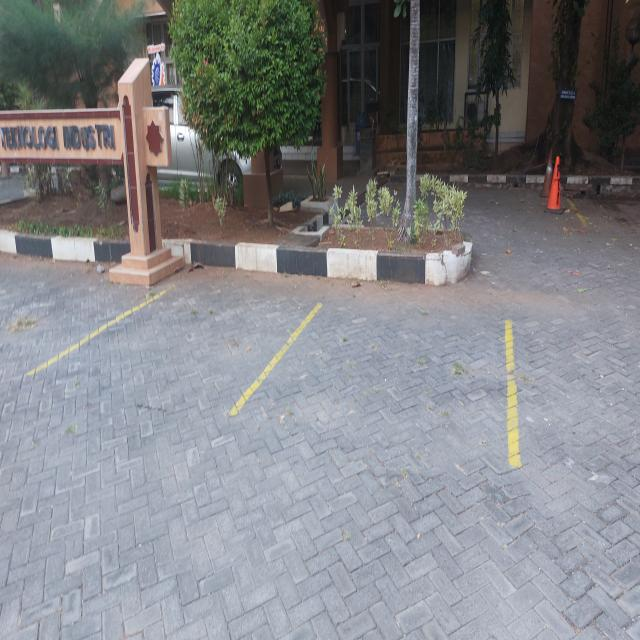empty: (231, 298, 514, 453), (31, 291, 319, 412)
